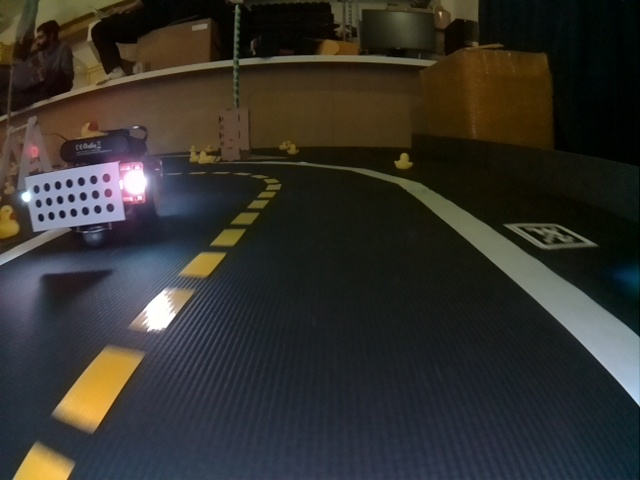Duckie: (0, 206, 19, 239), (77, 121, 107, 139), (394, 154, 413, 169), (287, 144, 299, 155), (198, 152, 209, 164), (189, 151, 199, 162), (279, 142, 288, 151)
Duckiebot: (25, 132, 158, 236)
QR code: (505, 222, 597, 250)
